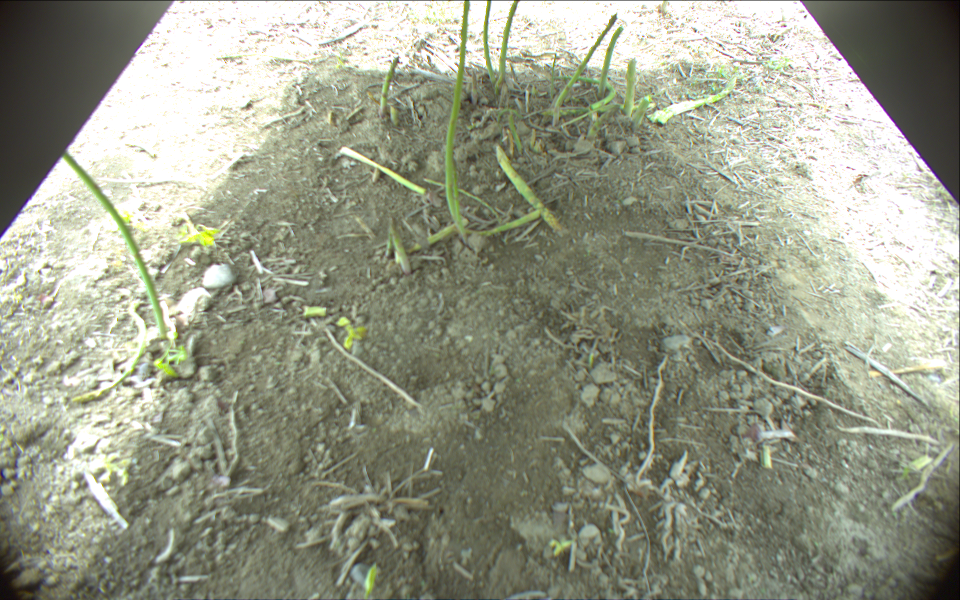aspa: (62, 150, 167, 338), (72, 299, 147, 402), (551, 14, 618, 124), (442, 1, 471, 237), (496, 143, 557, 234), (649, 76, 736, 124), (338, 146, 422, 193), (538, 74, 616, 111), (594, 26, 625, 102), (498, 1, 522, 97), (405, 218, 468, 253), (463, 212, 539, 239), (376, 56, 402, 117), (388, 218, 410, 276), (482, 1, 496, 82), (621, 55, 638, 114), (548, 53, 558, 105), (634, 95, 651, 124), (388, 105, 401, 124)
